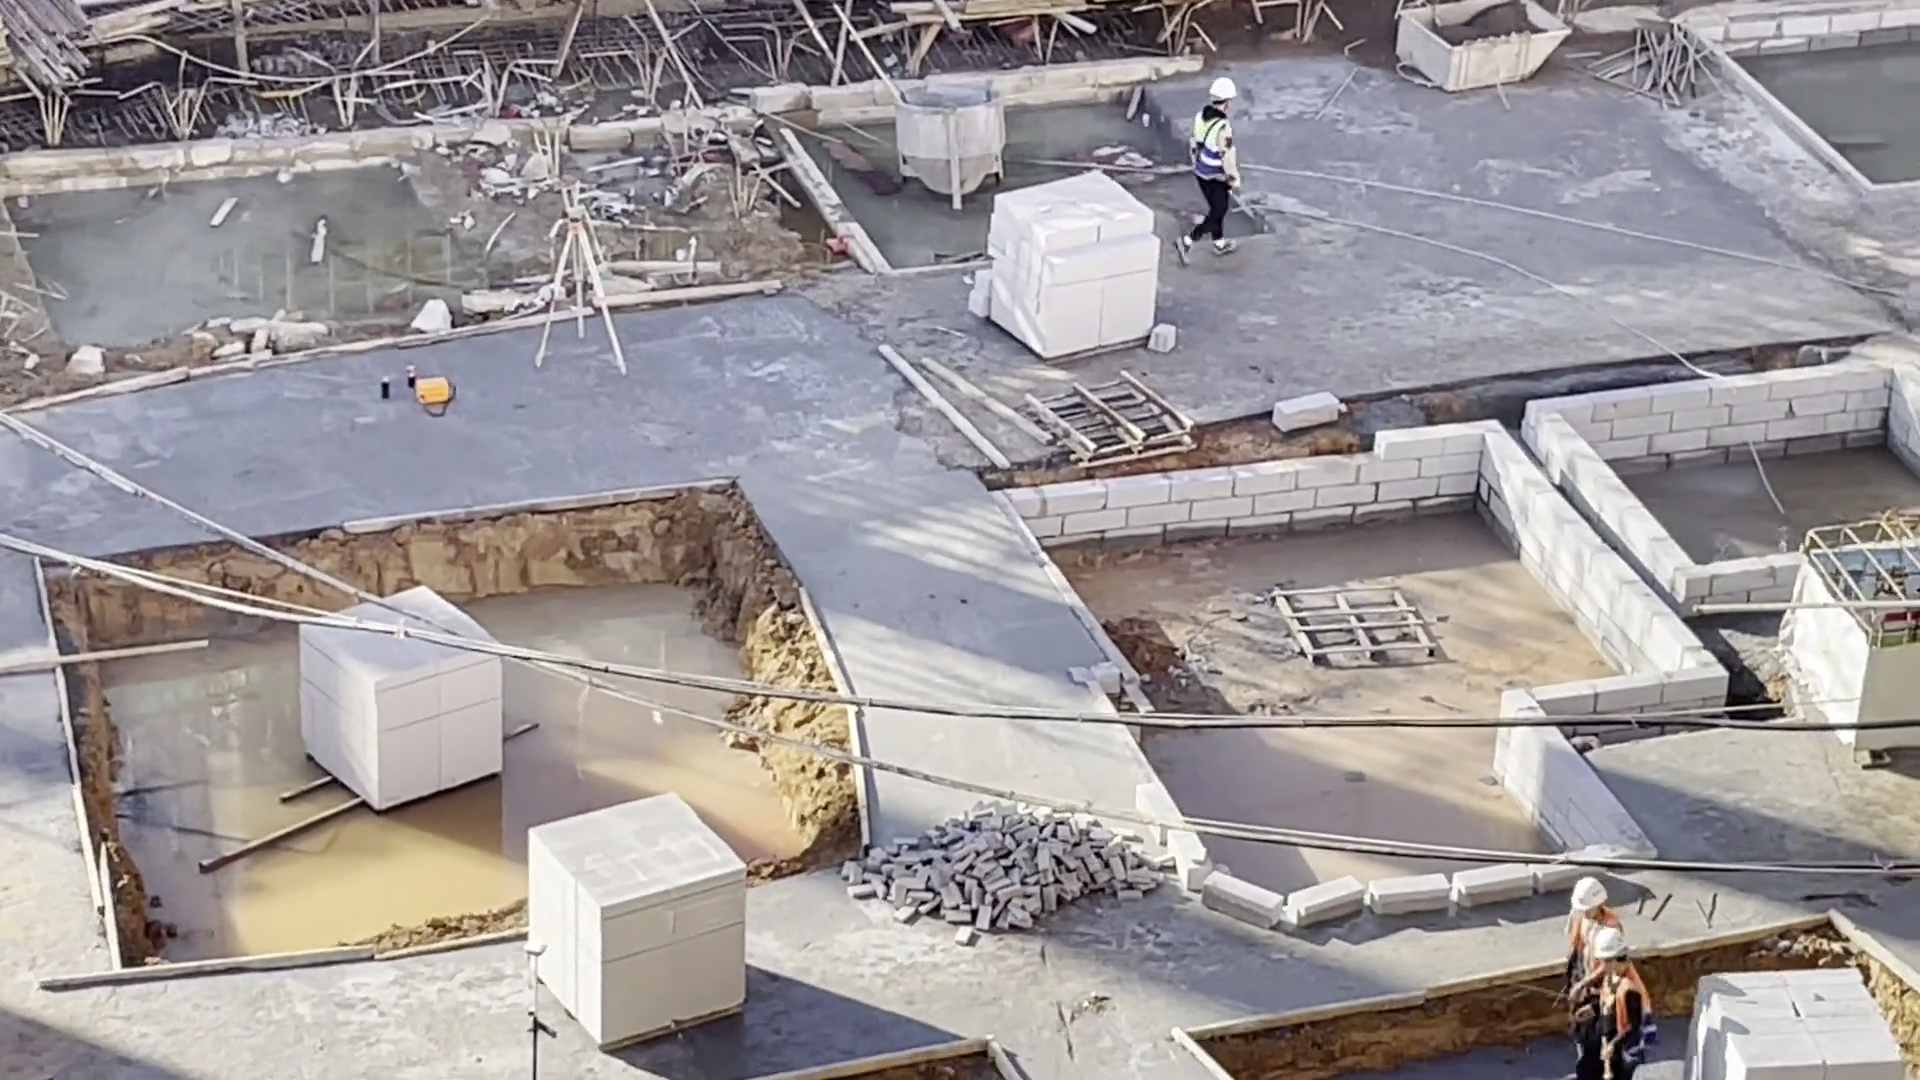brick: (524, 789, 750, 1046), (289, 646, 508, 813), (975, 168, 1158, 361), (1689, 969, 1904, 1080)
helmet: (1571, 874, 1609, 911), (1599, 929, 1628, 959), (1206, 79, 1237, 100)
hopper: (1393, 2, 1574, 94), (892, 79, 1008, 213)
person: (1171, 76, 1248, 266), (1594, 923, 1657, 1080)
vest: (1601, 967, 1657, 1062), (1194, 109, 1231, 180)
wood: (1, 2, 110, 105)
